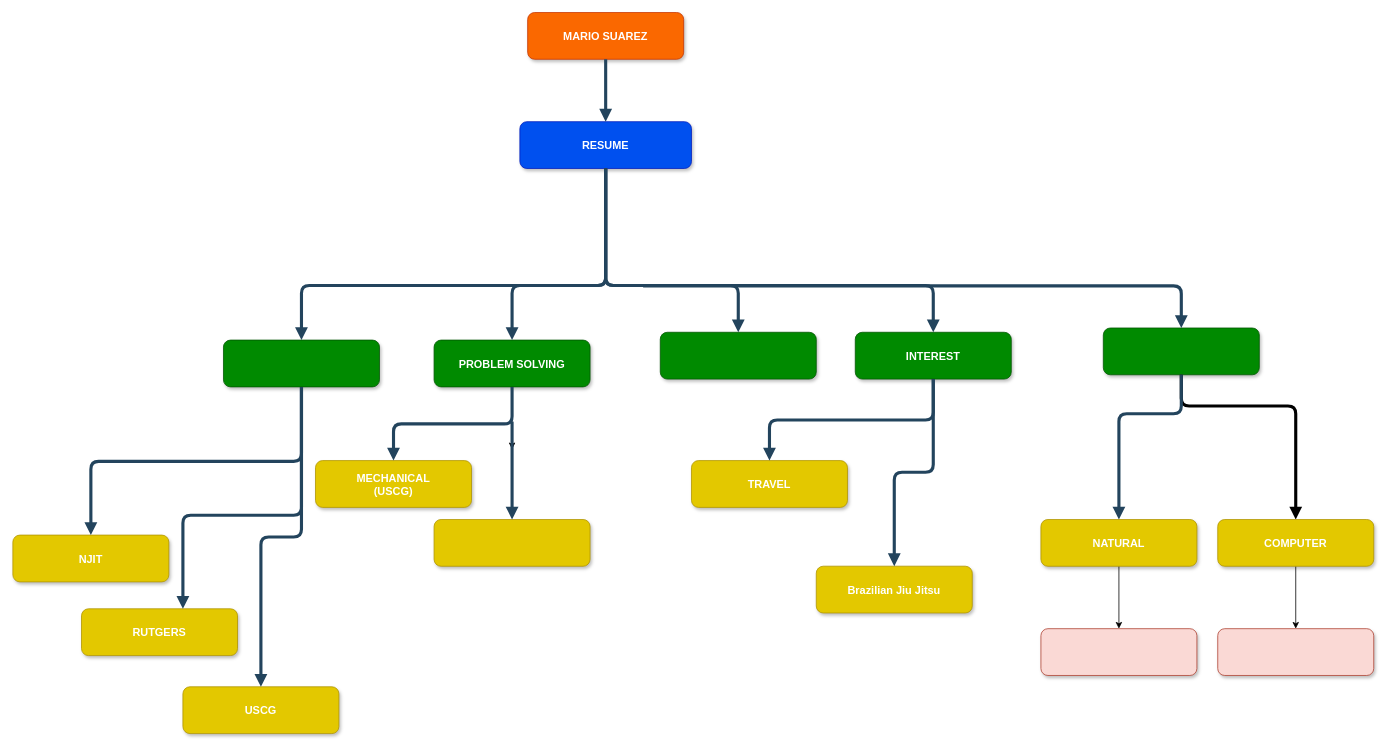
The diagram is 1387 pixels wide and 746 high, and some of its shapes have lost their labels. The centre of each missing label's shape, as x and y in pixels:
AWARDS: [738,356]
EDUCATION: [302,364]
LANGUAGES: [1181,352]
PORTUGUESE SPANISH: [1119,653]
PYTHON HTML CSS: [1296,653]
SOCIAL (LSNJ): [512,544]
